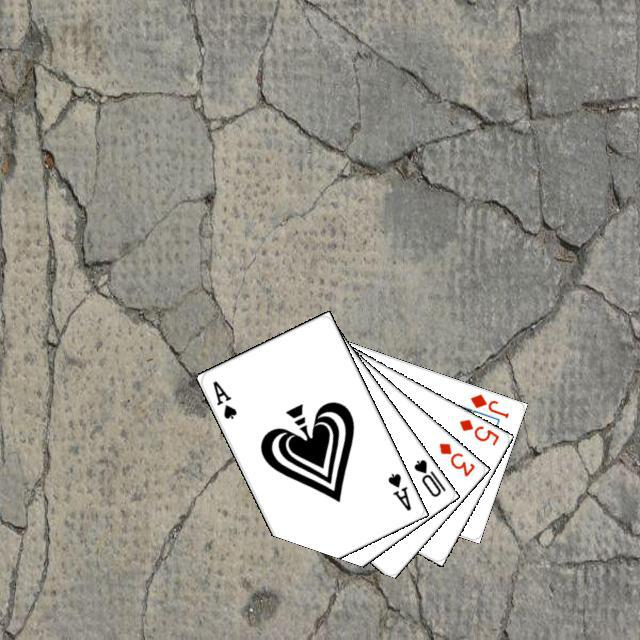10s: (409, 454, 448, 499)
3d: (434, 438, 477, 479)
5d: (454, 414, 501, 447)
As: (383, 468, 413, 513), (208, 376, 238, 421)
Jd: (465, 389, 510, 420)
